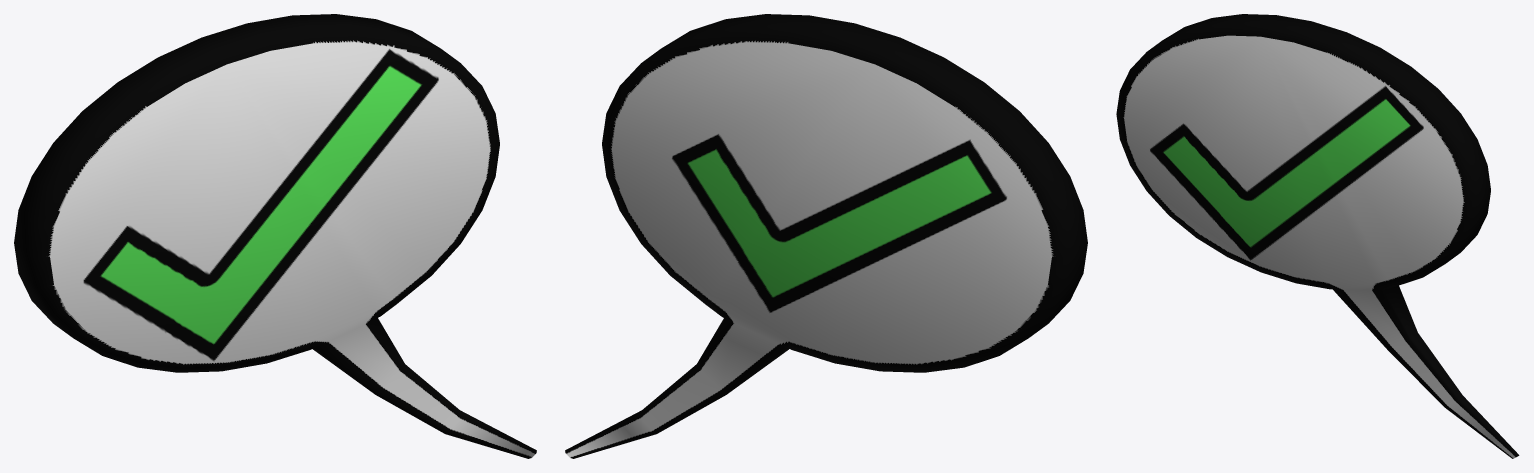
The model's file is SuccessfulPizzaRequest.fbx.
3 views of the same model, side by side, from view 1: azimuth 30°, elevation 25°; view 2: azimuth 150°, elevation 25°; view 3: azimuth 330°, elevation 25° (orthographic). The views are drawn at different scales.
Parts seen in each view (by area): view 1: SuccessfulPizzaRequest; view 2: SuccessfulPizzaRequest; view 3: SuccessfulPizzaRequest.
Boxes of the visible parts, x1,y1,x2,y2 form: SuccessfulPizzaRequest: (14,14,536,458); SuccessfulPizzaRequest: (565,14,1087,458); SuccessfulPizzaRequest: (1116,14,1519,458).
Size of the model in its own units: 220 by 203 by 19.37.
